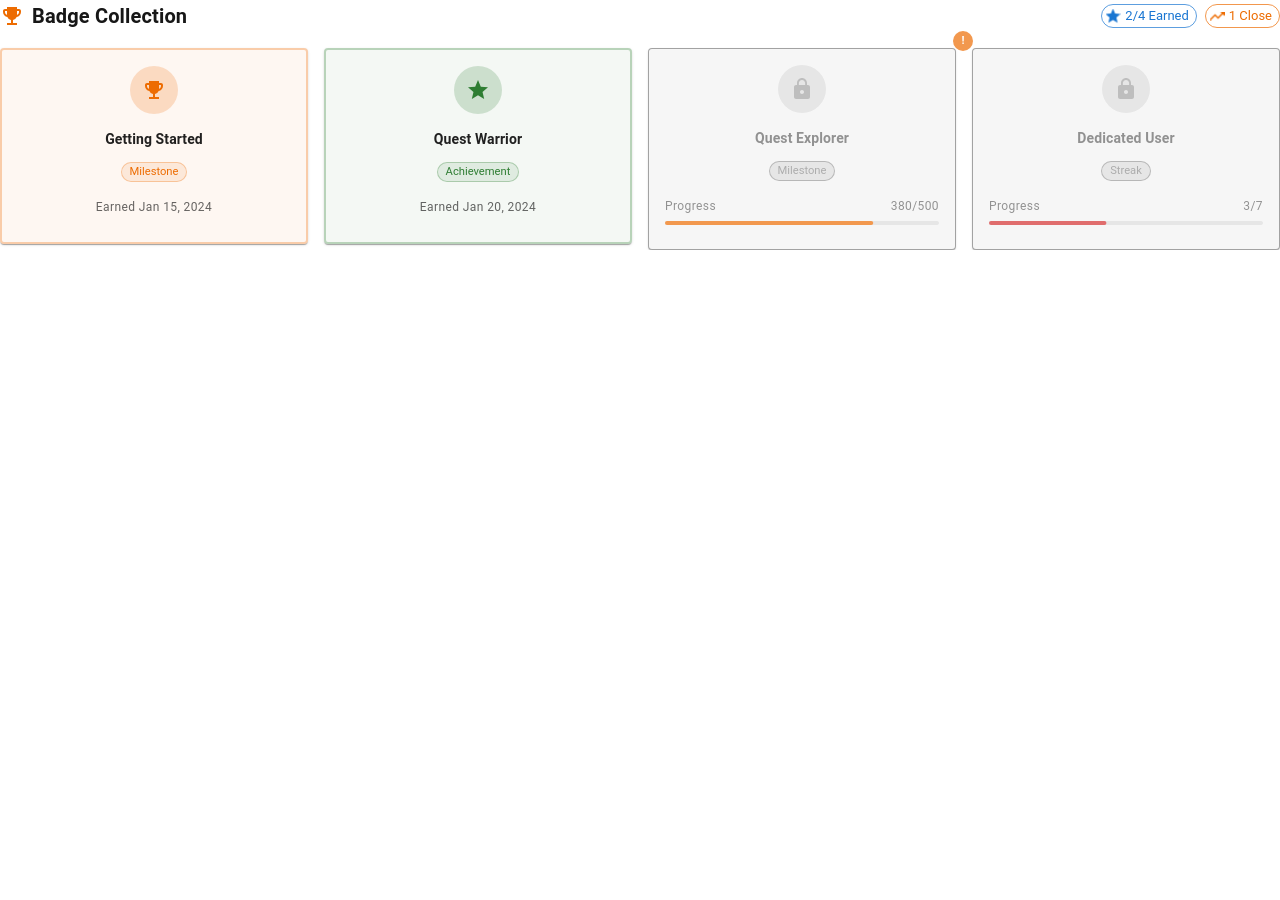
Test case: BadgeCollection › Badge Interaction › closes modal when close button is clicked
This screenshot has width=1280, height=900.
Note: Open modal
Click the heading "Getting Started" at (154, 138), box top-left (105, 130), bottom-right (203, 146)
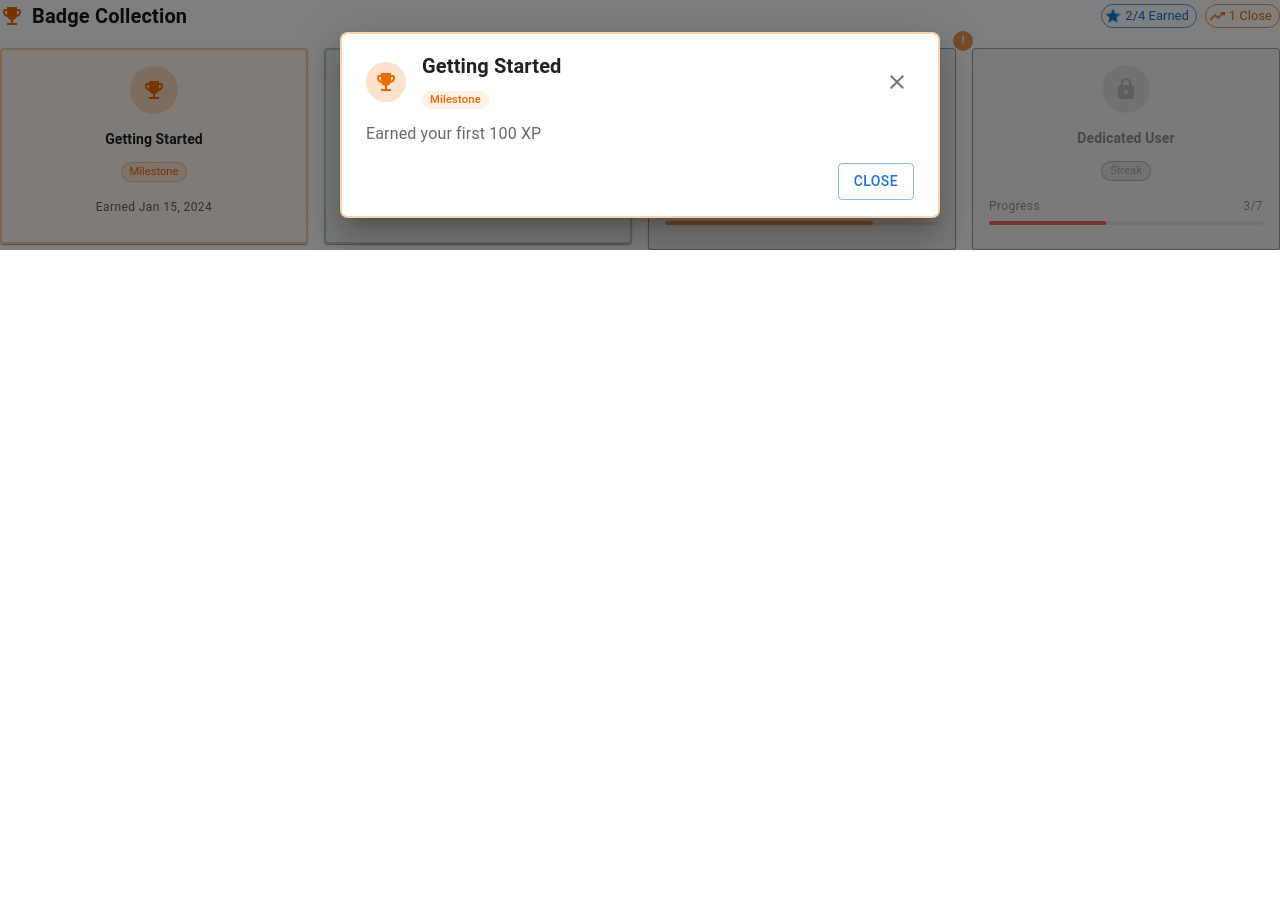
Expected: the dialog is shown, top-left (340, 32), bottom-right (940, 218)
Note: Close modal
Click the button "Close" at (876, 182), box top-left (838, 163), bottom-right (914, 200)
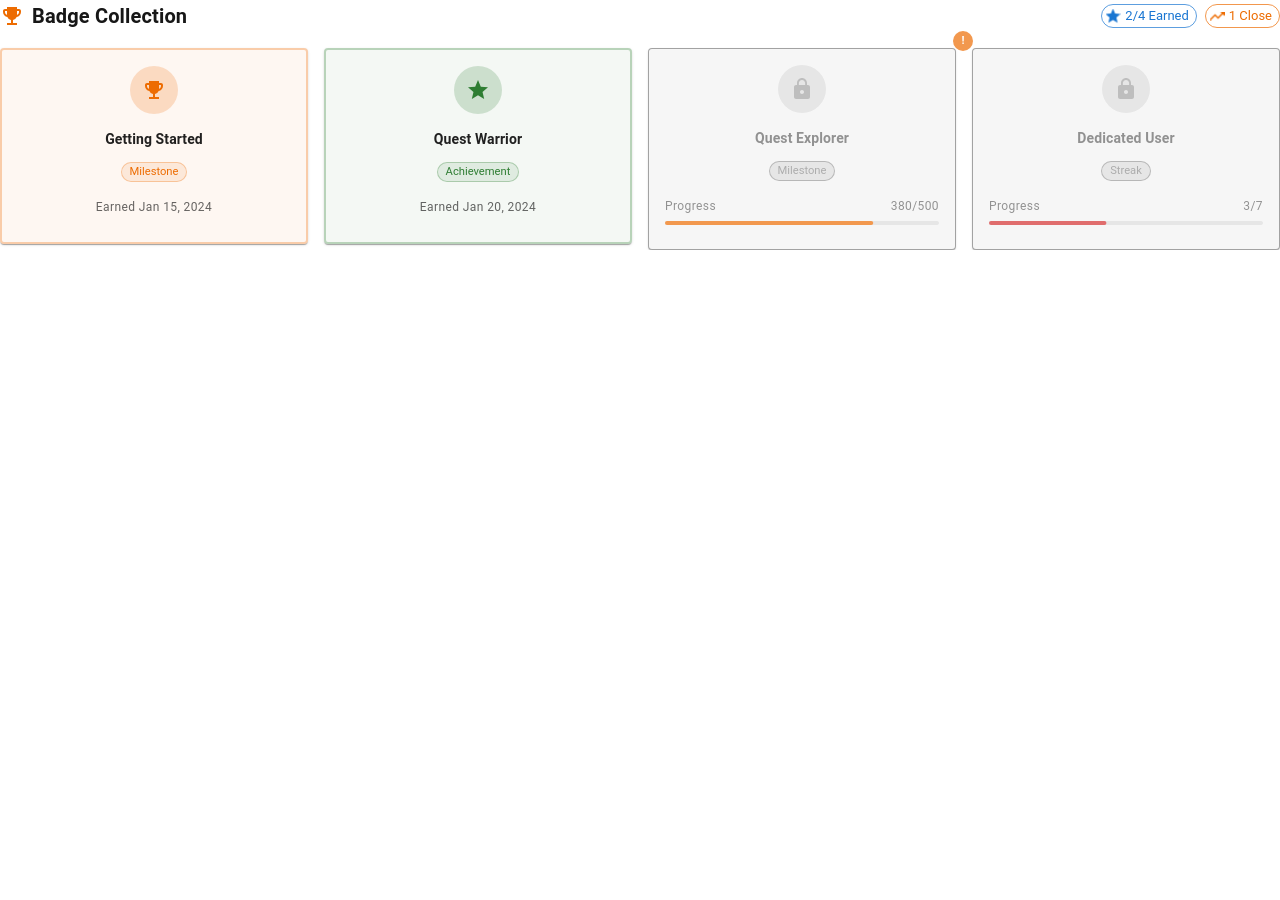
Expected: the dialog is gone
